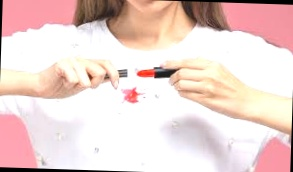lipstick: (120, 87, 145, 107)
